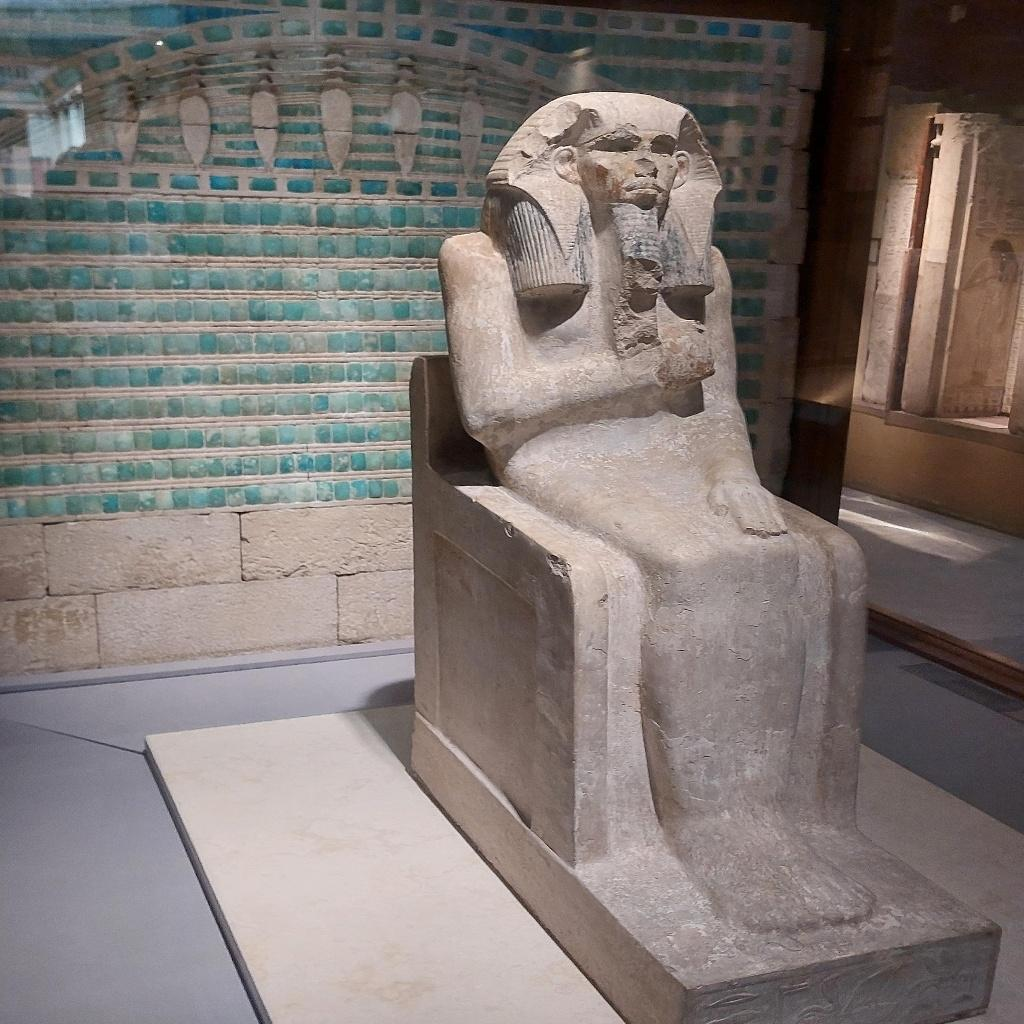Seated Statue of Djoser: (426, 86, 886, 939)
